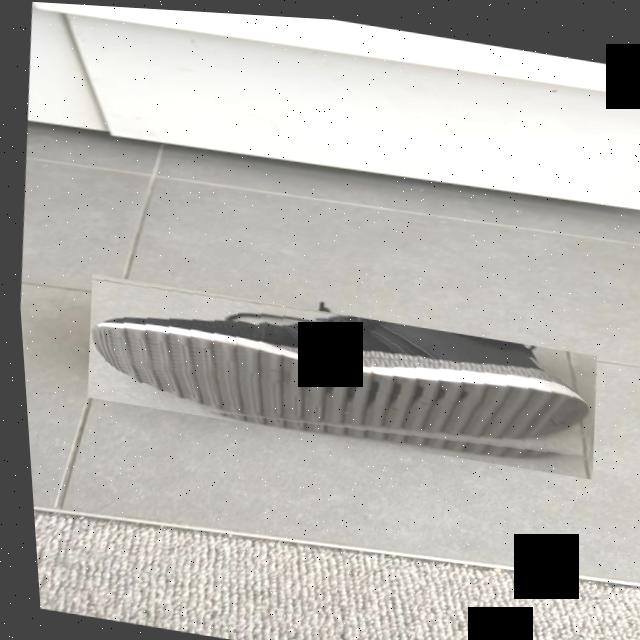shoe: (75, 272, 598, 473)
